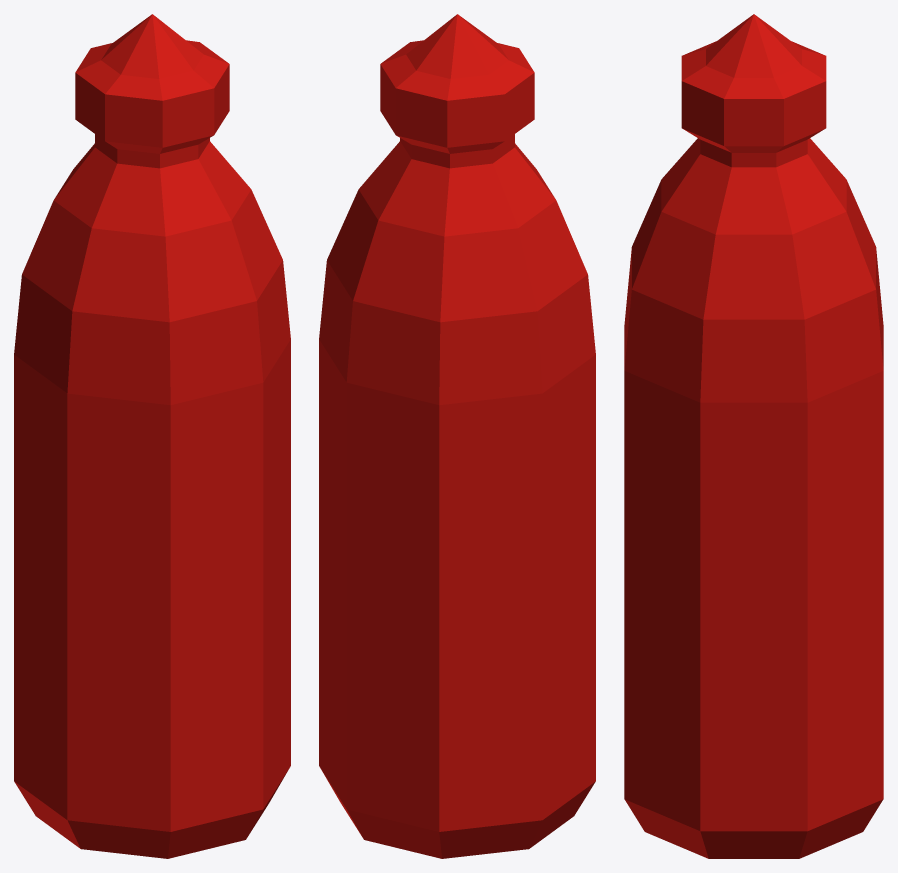
Rendered from SM_Cook_SauceBottle_Chili_01.obj.
The picture shows the model from 3 angles, left to right: view 1: azimuth 30°, elevation 25°; view 2: azimuth 150°, elevation 25°; view 3: azimuth 270°, elevation 25°; orthographic projection.
Parts seen in each view (by area): view 1: SM_Cook_SauceBottle_Chili_01; view 2: SM_Cook_SauceBottle_Chili_01; view 3: SM_Cook_SauceBottle_Chili_01.
Part boxes in pixels (bbox=[...]): SM_Cook_SauceBottle_Chili_01: bbox=[14, 14, 290, 858]; SM_Cook_SauceBottle_Chili_01: bbox=[319, 14, 595, 858]; SM_Cook_SauceBottle_Chili_01: bbox=[624, 14, 883, 858].
Bounding box in the file's own units: 0.0647 × 0.22 × 0.0647.
Materials: 1 (1 with a texture image).
